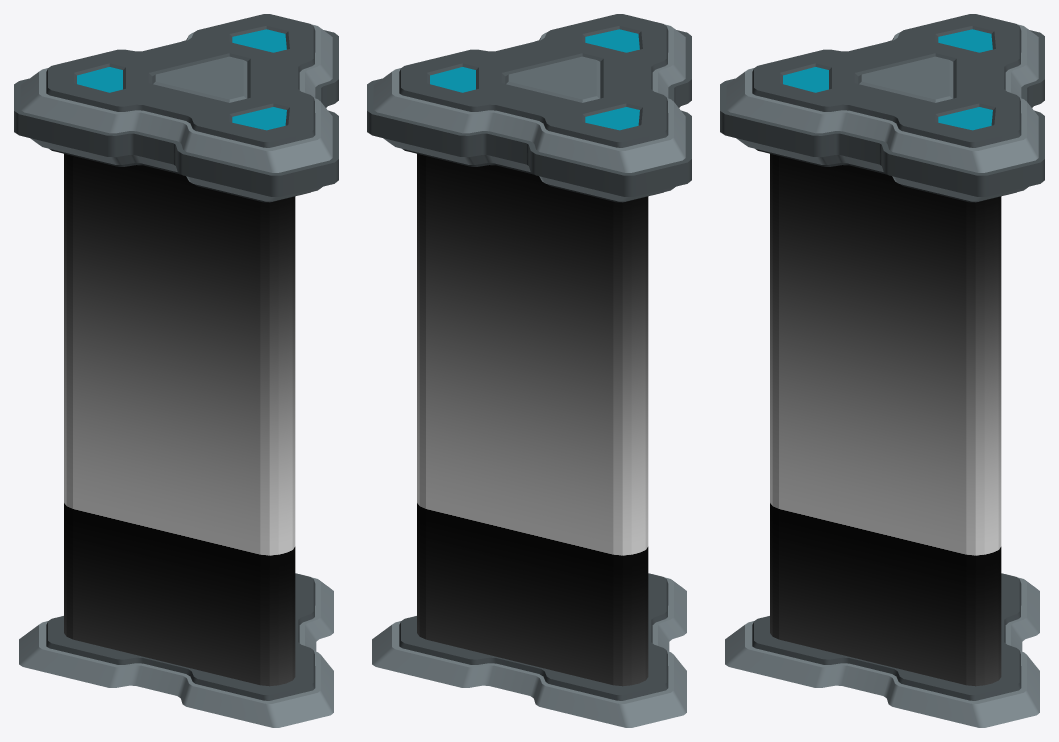
File: trampoline_1_001.fbx
The picture shows the model from 3 angles, left to right: view 1: azimuth 30°, elevation 25°; view 2: azimuth 150°, elevation 25°; view 3: azimuth 270°, elevation 25°; orthographic projection.
Parts seen in each view (by area): view 1: trampoline_1_001; view 2: trampoline_1_001; view 3: trampoline_1_001.
Part boxes in pixels (bbox=[...]): trampoline_1_001: bbox=[14, 14, 338, 727]; trampoline_1_001: bbox=[367, 14, 691, 727]; trampoline_1_001: bbox=[720, 14, 1044, 727].
Bounding box in the file's own units: 1135 × 996 × 1942.
